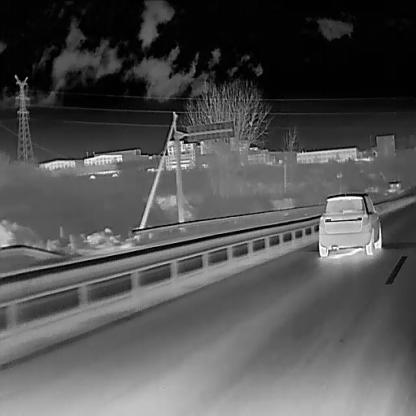car: (318, 192, 381, 256)
